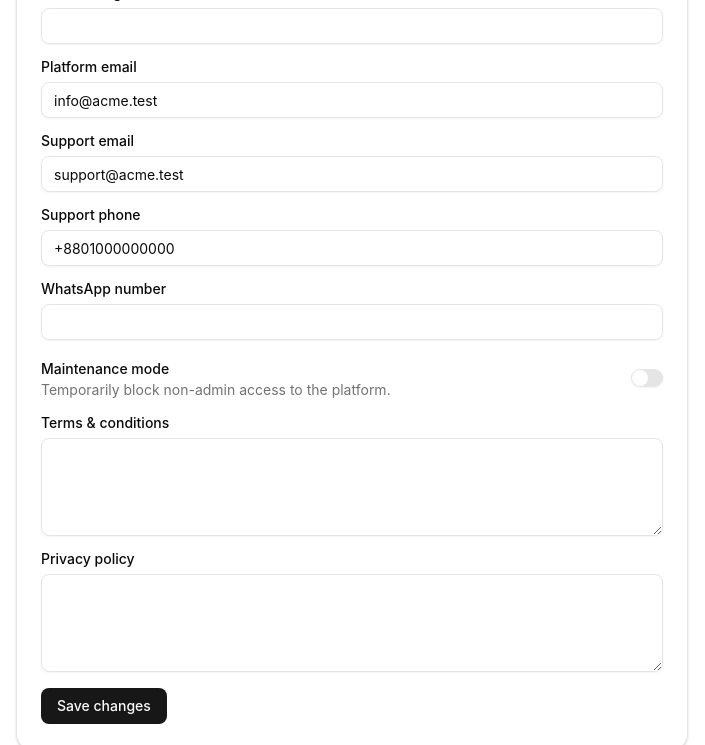
Test case: GeneralSettingsPage › shows the server error message when the save fails
(page scrolled)
Step 1. Click the button "Save changes" → (104, 706), box x1=41 y1=688 x2=167 y2=724
(page scrolled)
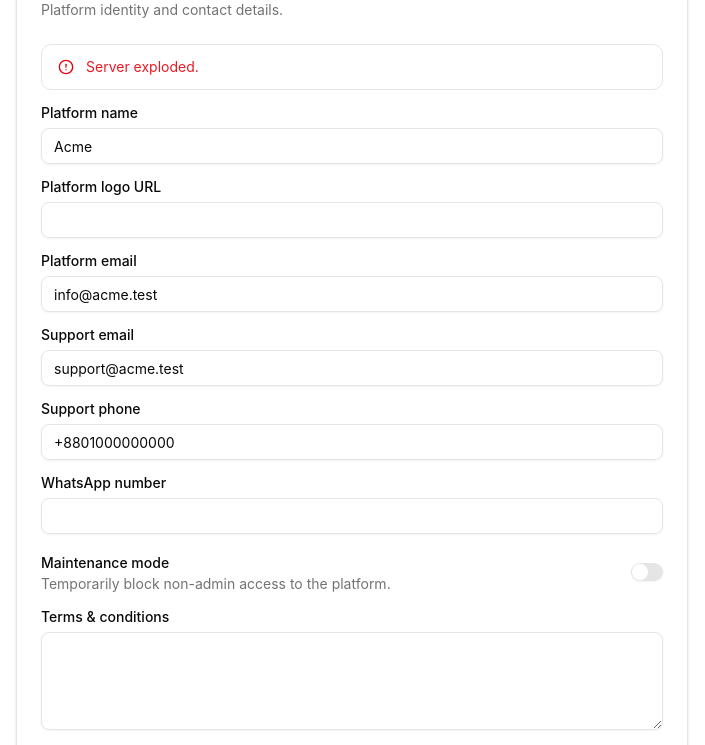
Expected: the text "Server exploded." is shown, x1=86 y1=58 x2=199 y2=75
